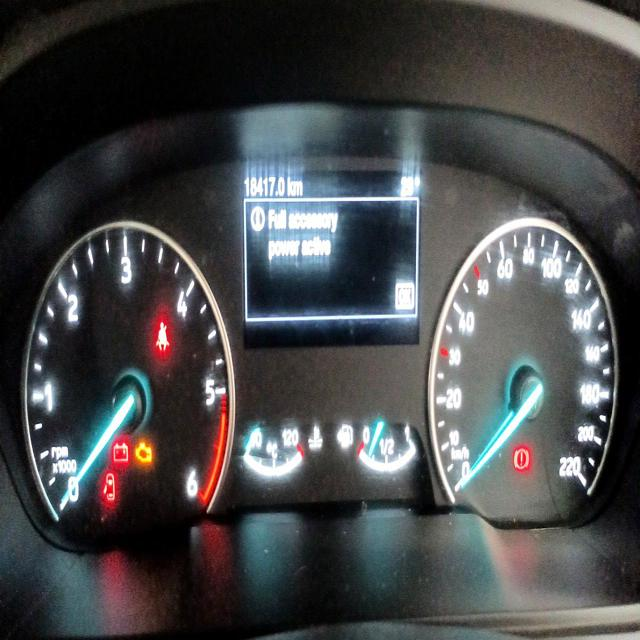odometer: (243, 170, 288, 200)
